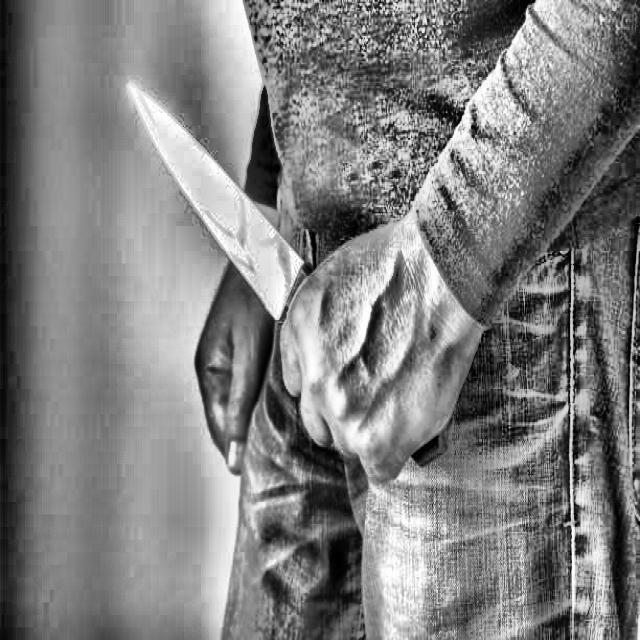pisau: (123, 69, 318, 343)
